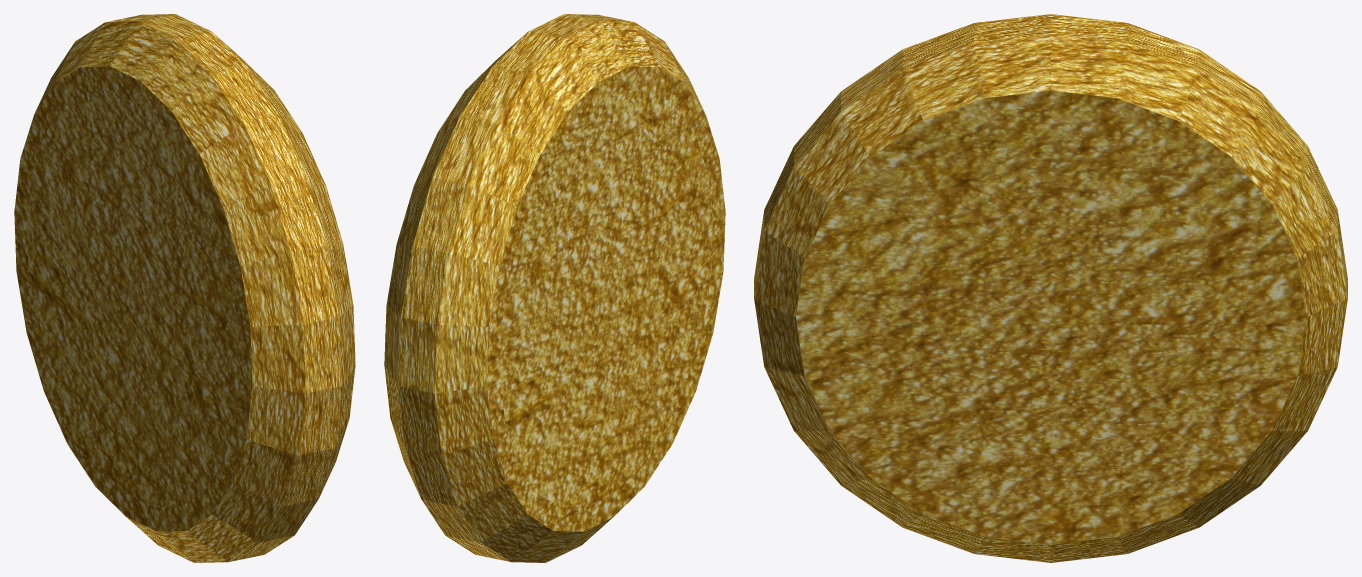
The model's file is gold.fbx.
The picture shows the model from 3 angles, left to right: view 1: azimuth 30°, elevation 25°; view 2: azimuth 150°, elevation 25°; view 3: azimuth 270°, elevation 25°; orthographic projection. The views are drawn at different scales.
Parts seen in each view (by area): view 1: Cylinder; view 2: Cylinder; view 3: Cylinder.
Part boxes in pixels (<box>): Cylinder: <box>14,14,355,562</box>; Cylinder: <box>384,14,725,562</box>; Cylinder: <box>754,14,1347,562</box>.
Size of the model in its own units: 49.27 by 200 by 200.
